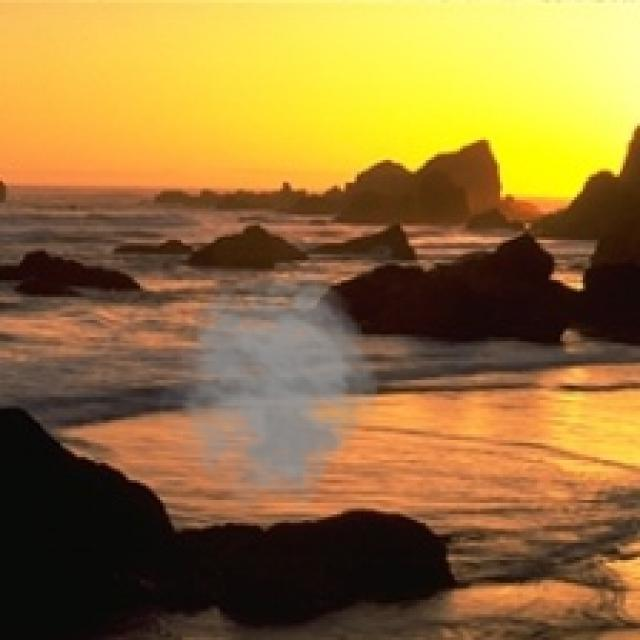Smoke: (154, 266, 380, 520)
